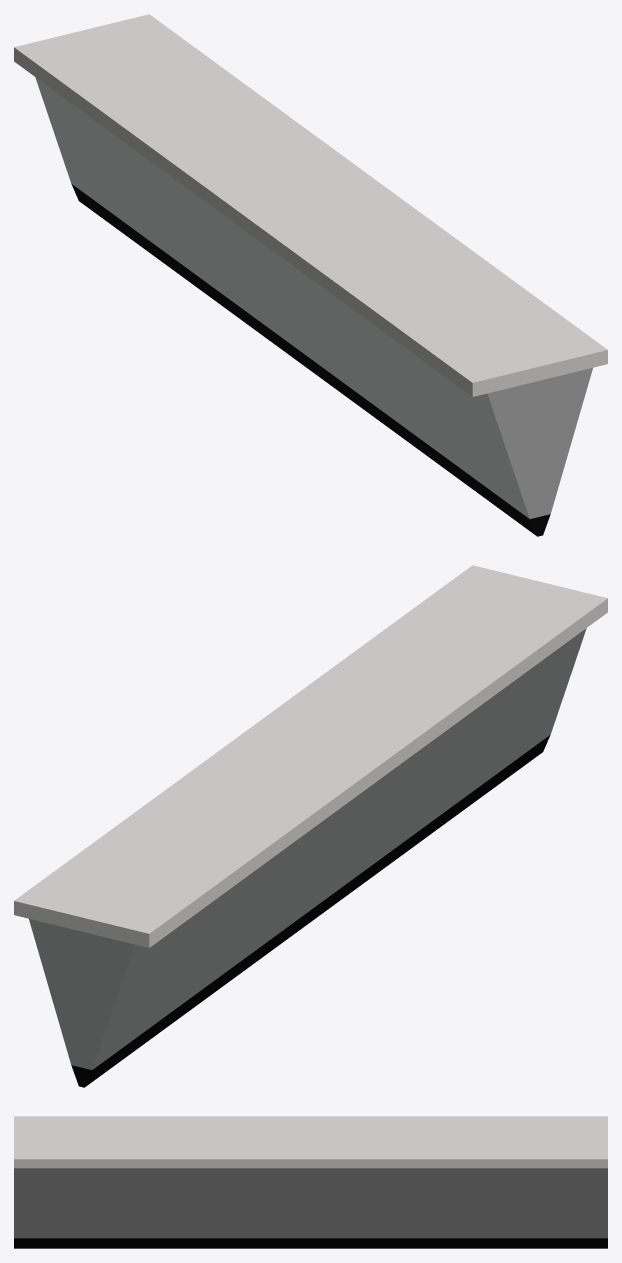
File: crl.obj
3 views of the same model, one above another, from view 1: azimuth 30°, elevation 25°; view 2: azimuth 150°, elevation 25°; view 3: azimuth 270°, elevation 25° (orthographic). The views are drawn at different scales.
Parts seen in each view (by area): view 1: 1.003; view 2: 1.003; view 3: 1.003.
Part boxes in pixels (left/top/right/bottom): 1.003: left=14, top=14, right=607, bottom=536; 1.003: left=14, top=565, right=607, bottom=1087; 1.003: left=14, top=1116, right=607, bottom=1248.
Bounding box in the file's own units: 0.1875 × 0.2245 × 1.1.
1 material, 1 textured.
